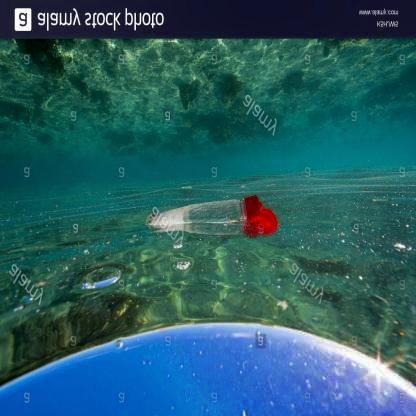pbottle: (148, 188, 280, 238)
